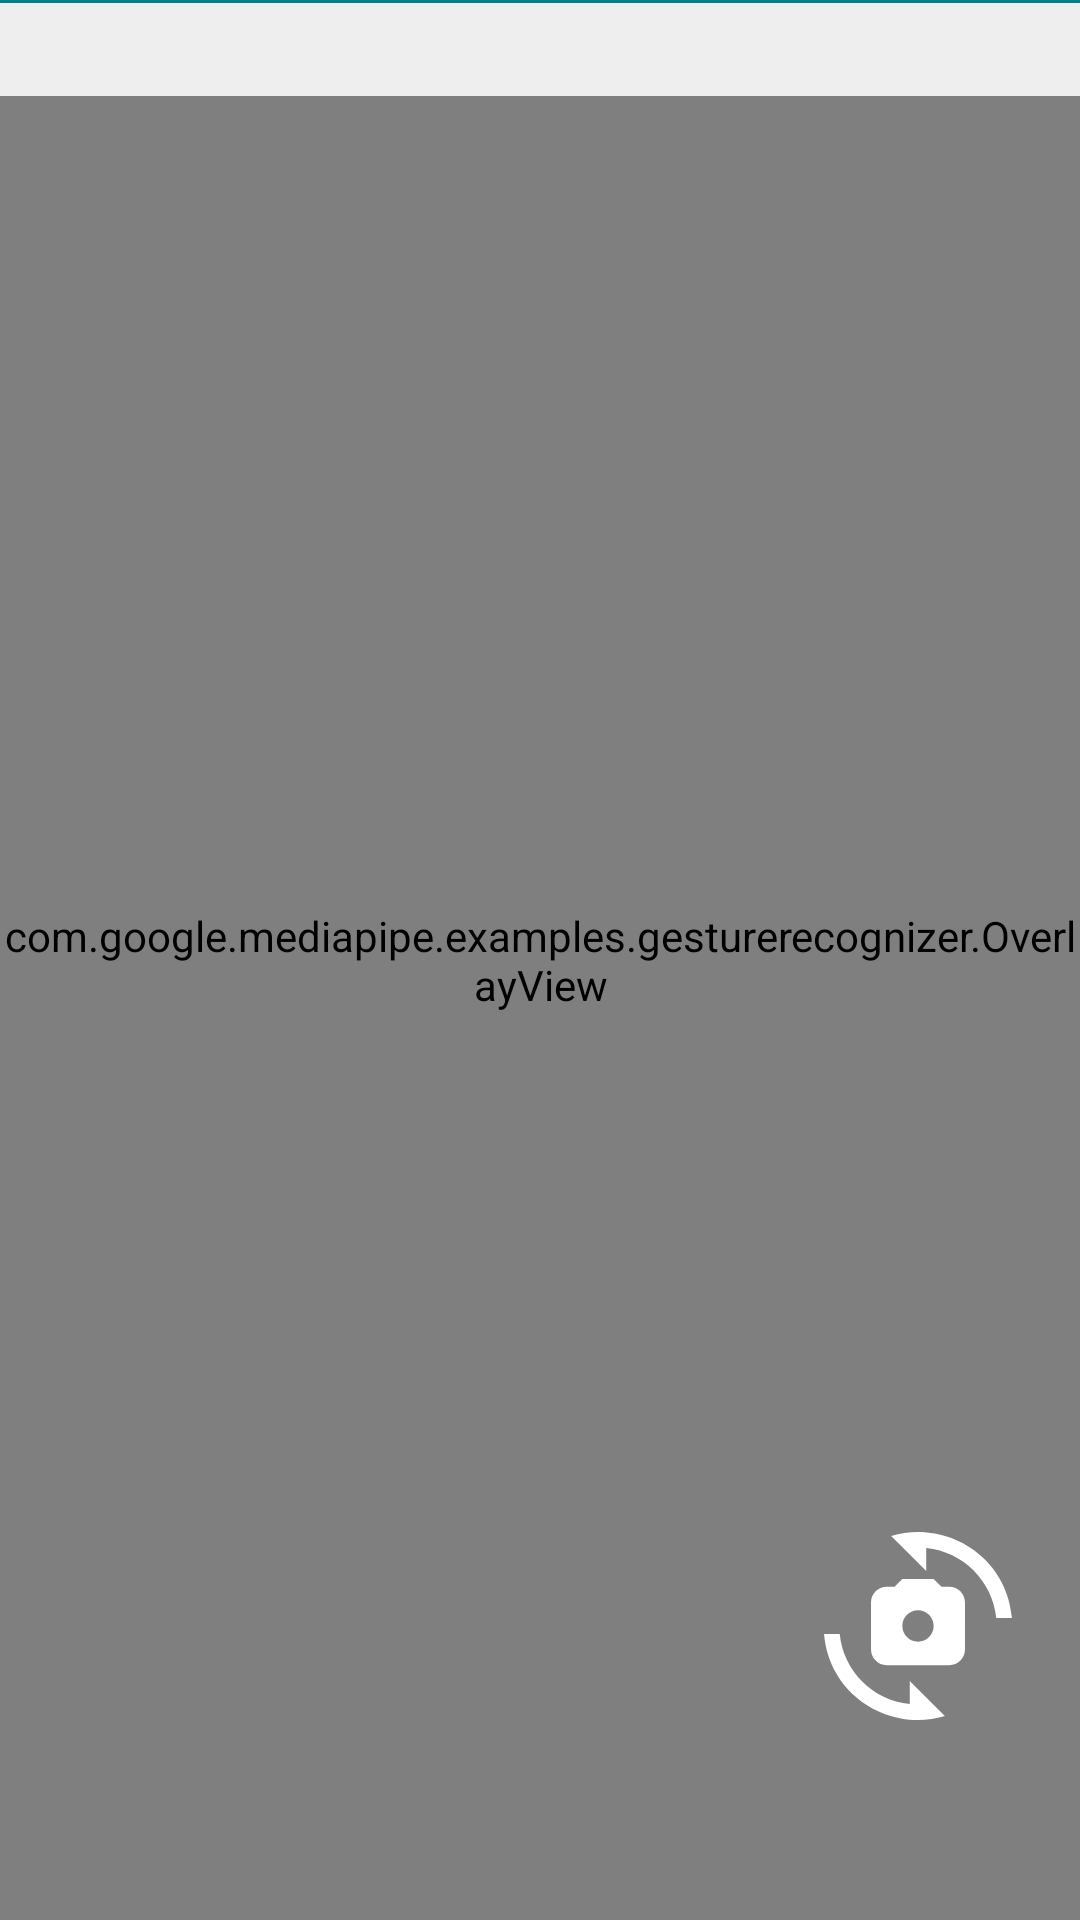

Point at icon controls on the screen. Image size 1080*1920, points as (x=x, y=y).
camera switch: (x=918, y=1626)
